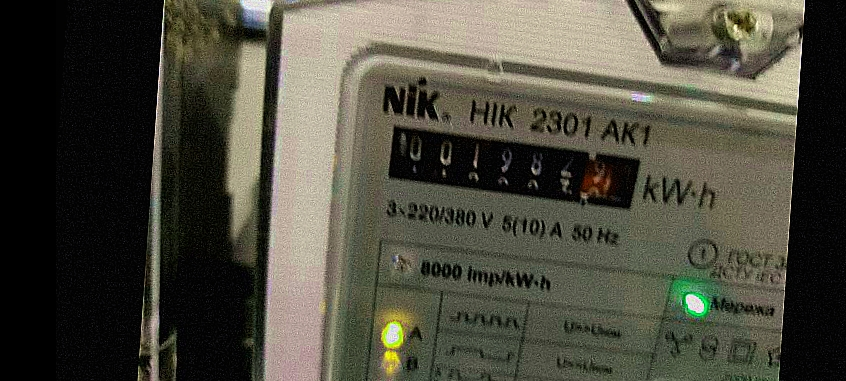0: (437, 137, 456, 167), (407, 132, 425, 162)
1: (469, 139, 483, 169)
2: (558, 148, 578, 179)
8: (528, 147, 546, 176)
9: (589, 157, 611, 186), (497, 144, 514, 174)
screen: (370, 110, 657, 225)
